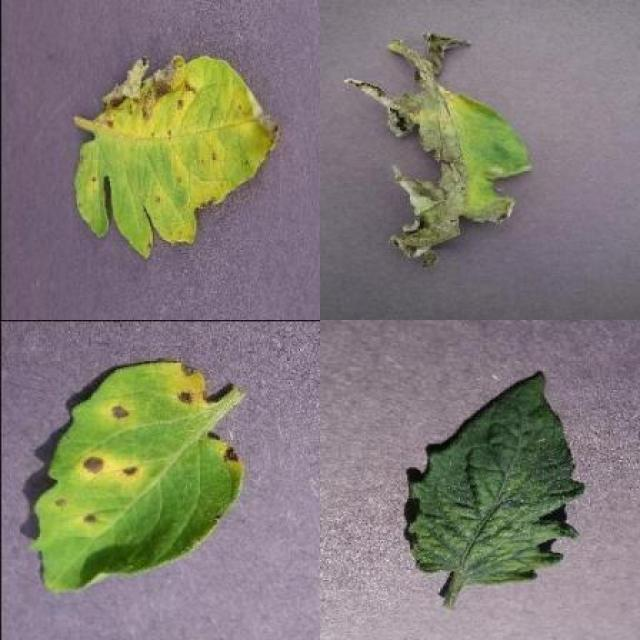Late Blight: (346, 32, 534, 271)
Mosaic Virus: (403, 367, 584, 584)
Septoria: (35, 363, 242, 590), (72, 57, 278, 260)
